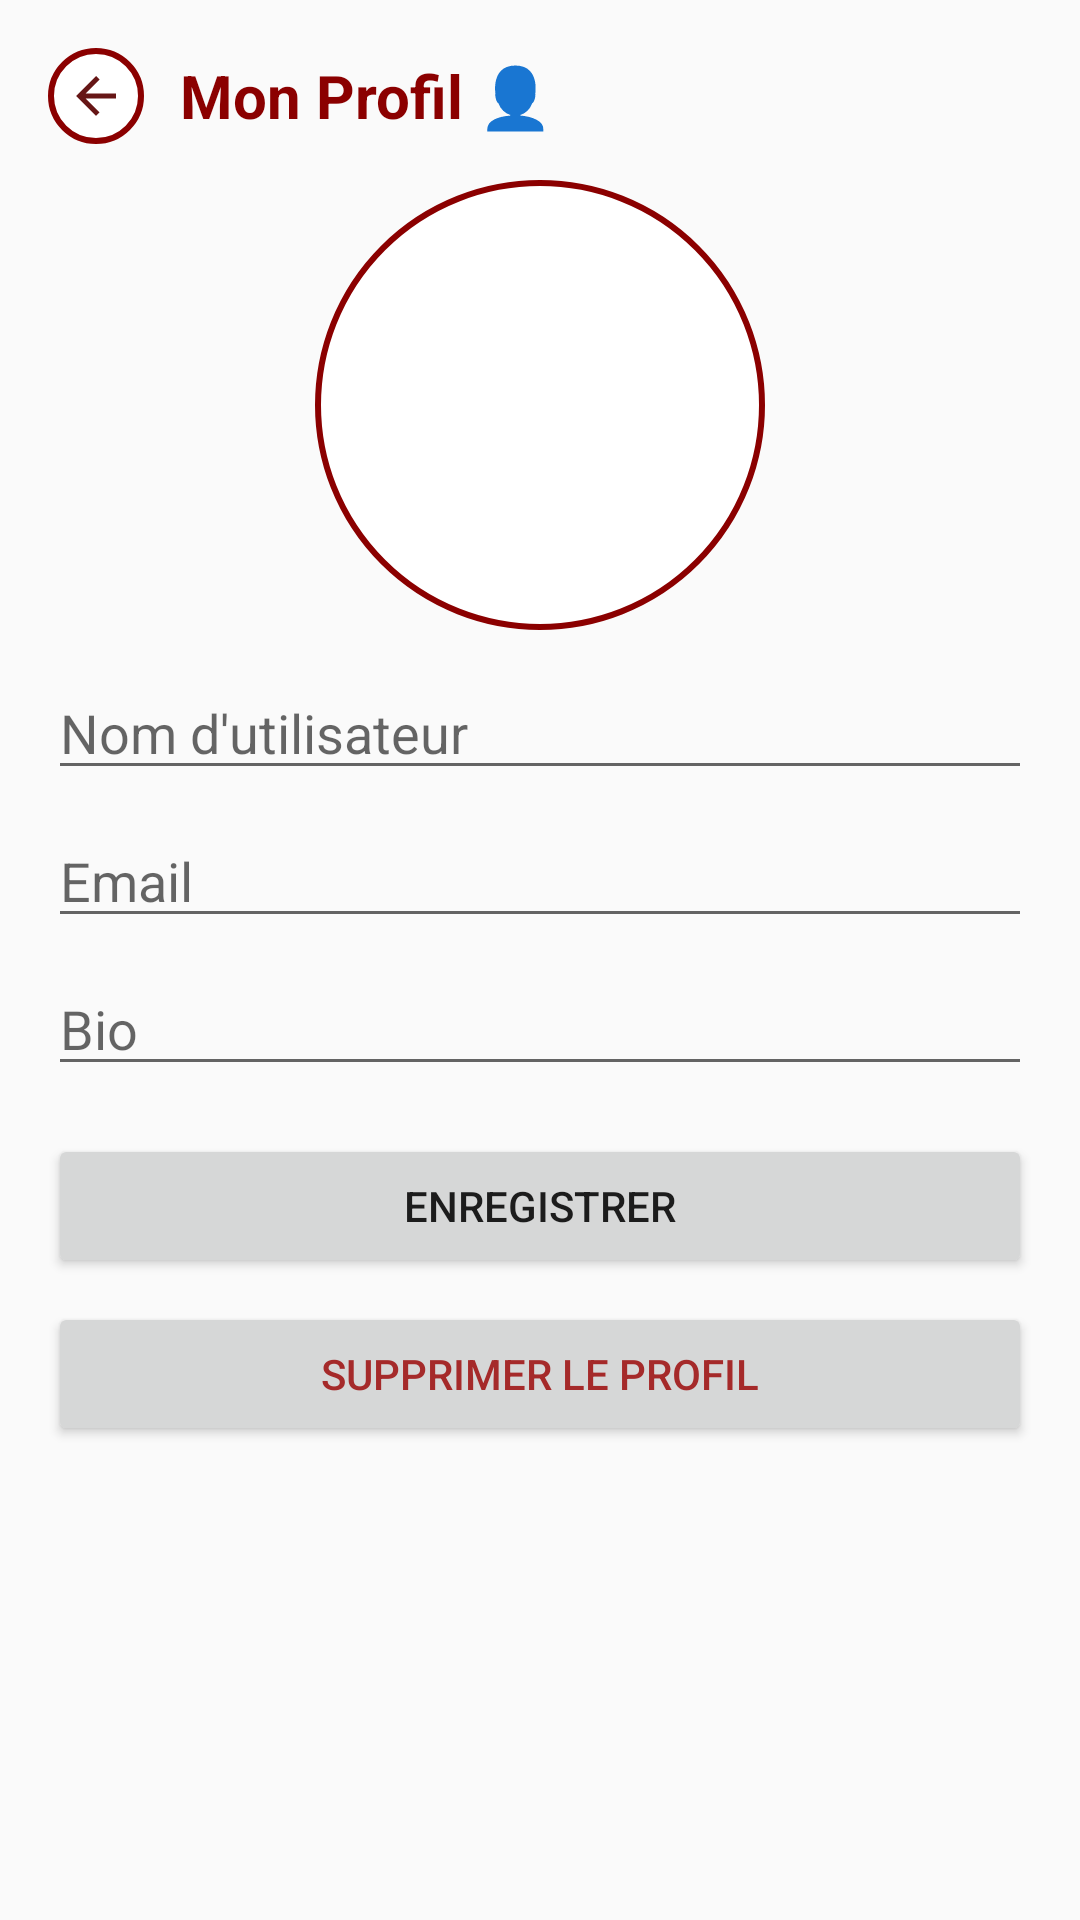

Point at icon controls on the screen. Image size 1080*1920, points as (x=x, y=y).
Retour: (x=96, y=96)
